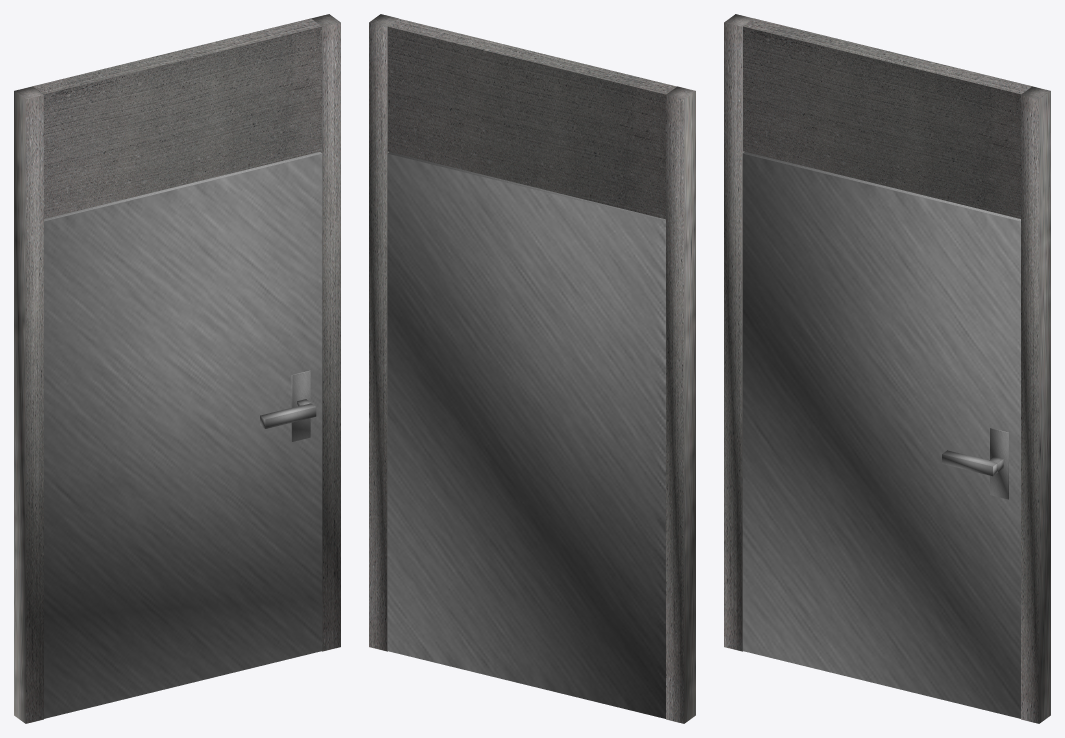
File: metaldoor_000000.obj
3 renders of one model, left to right at view 1: azimuth 30°, elevation 25°; view 2: azimuth 150°, elevation 25°; view 3: azimuth 330°, elevation 25°, orthographic.
Parts seen in each view (by area): view 1: Cube.004_Cube.005, Cube.006_Cube.007; view 2: Cube.004_Cube.005, Cube.006_Cube.007; view 3: Cube.004_Cube.005, Cube.006_Cube.007.
Part boxes in pixels (x1,y1,x2,y2): Cube.004_Cube.005: [44, 152, 322, 718]; Cube.006_Cube.007: [14, 14, 340, 723]; Cube.004_Cube.005: [387, 152, 665, 718]; Cube.006_Cube.007: [369, 14, 695, 723]; Cube.004_Cube.005: [742, 152, 1020, 718]; Cube.006_Cube.007: [724, 14, 1050, 723].
Size of the model in its own units: 1.58 by 3 by 0.1959.
